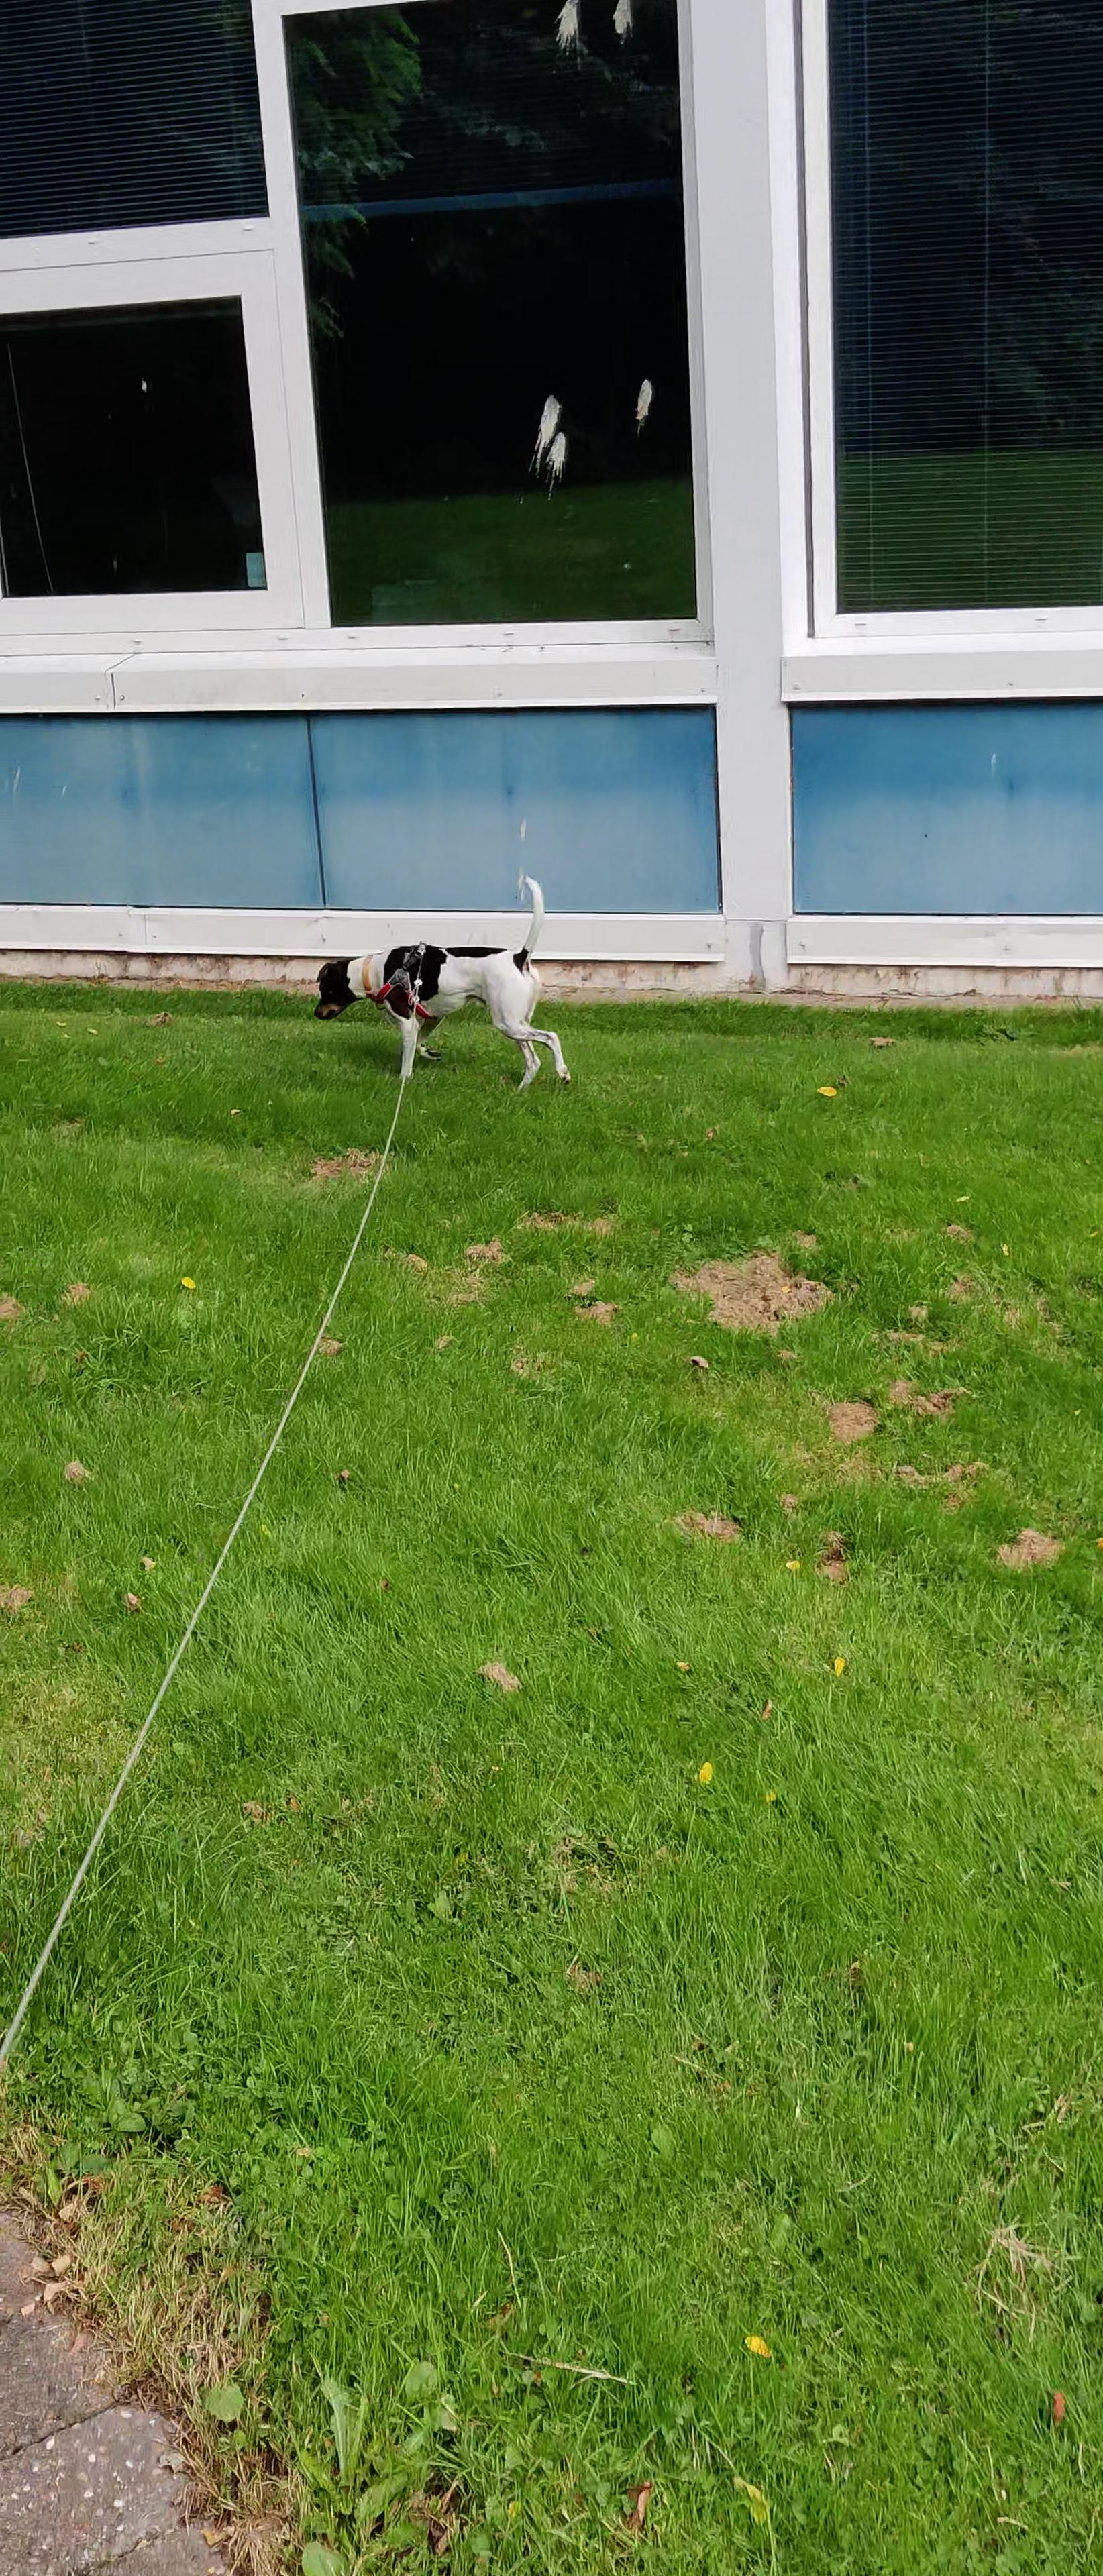Dog: (298, 864, 580, 1096)
